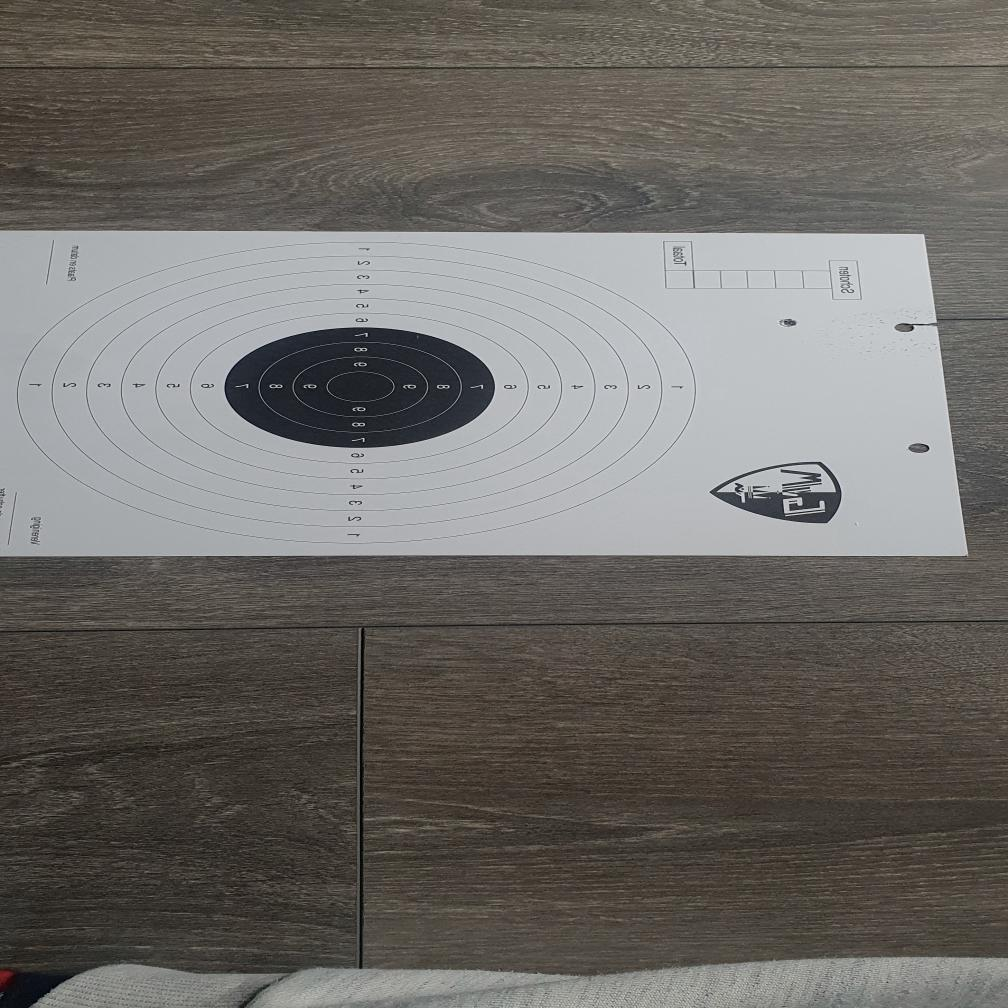0: (775, 317, 801, 329)
Target: (17, 242, 697, 544)
black_contour: (223, 327, 494, 448)
